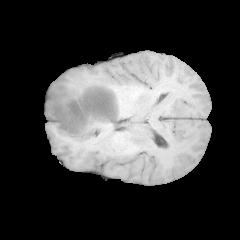glioma: (45, 76, 129, 139)
